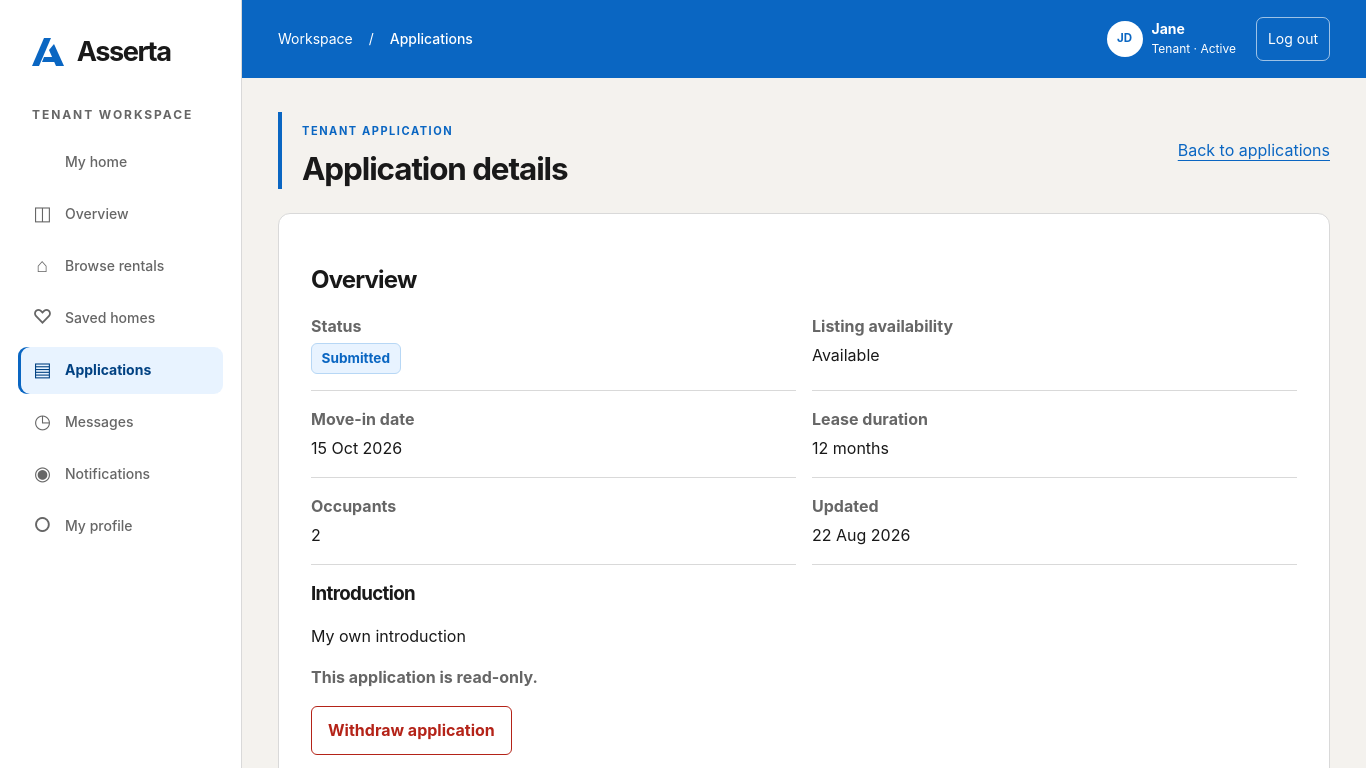
it: tenant application detail › confirms withdrawal, authenticates the action, and refreshes terminal state
The image size is (1366, 768).
Click the button "Withdraw application" at (411, 731), box x1=311 y1=706 x2=512 y2=755
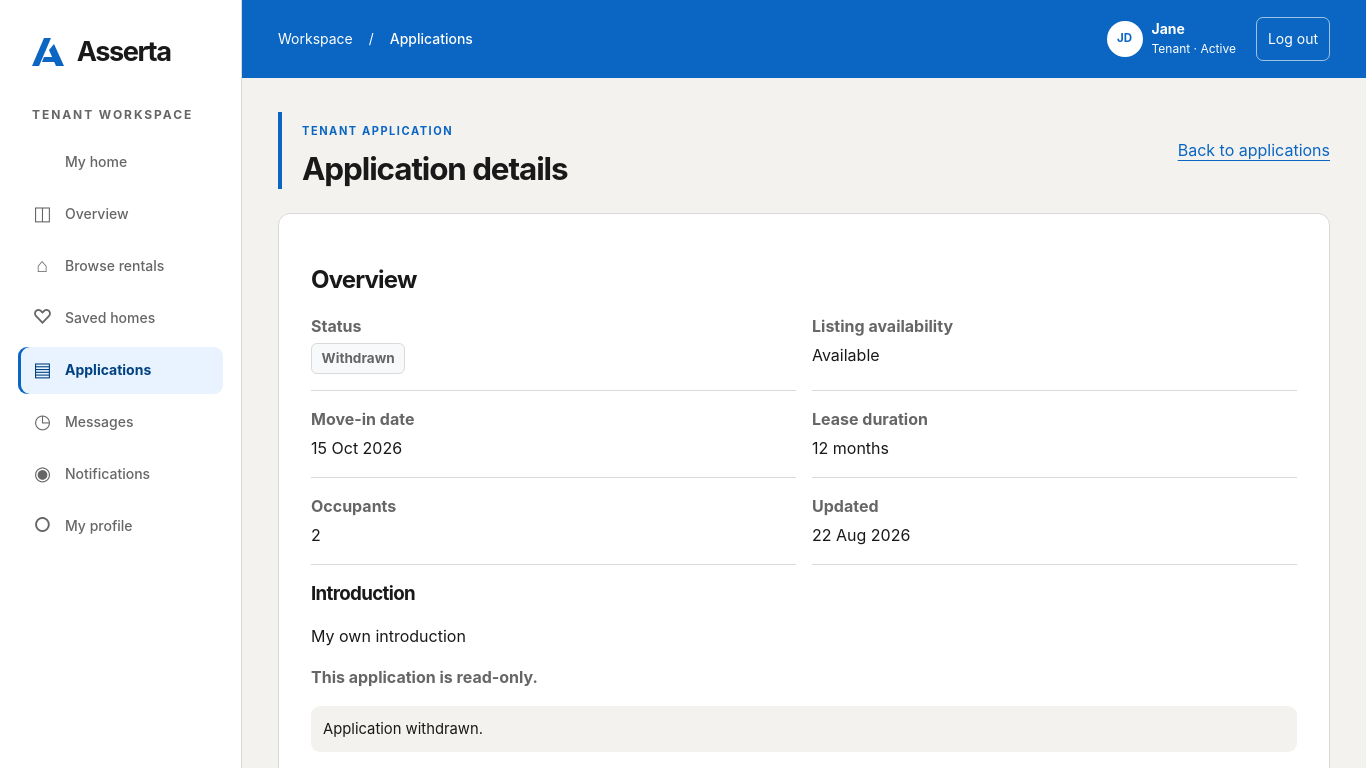
Check: the text "Application withdrawn." is shown, box x1=311 y1=706 x2=1297 y2=752
Check: the button "Withdraw application" is gone
